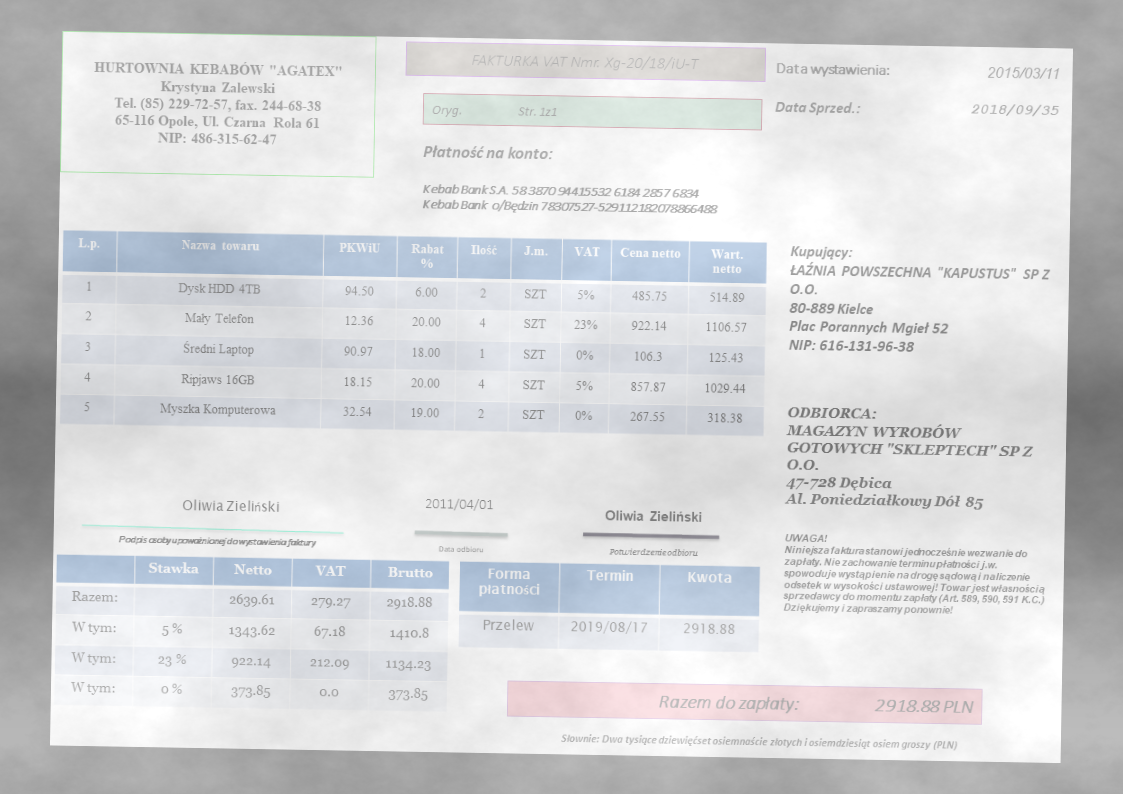Table: (57, 229, 769, 437), (52, 554, 450, 713), (457, 559, 761, 654)
TextBox: (785, 243, 1052, 359), (782, 404, 1036, 514), (88, 53, 346, 153), (781, 529, 1049, 619), (419, 179, 720, 217), (558, 727, 960, 754), (655, 689, 975, 717), (466, 51, 701, 73), (116, 531, 319, 551), (419, 142, 555, 164), (774, 58, 892, 82), (428, 100, 561, 121), (178, 495, 284, 515), (967, 100, 1061, 120), (773, 97, 862, 118), (601, 507, 704, 525), (985, 63, 1062, 82), (423, 495, 495, 514), (606, 545, 701, 559), (435, 543, 485, 554)
